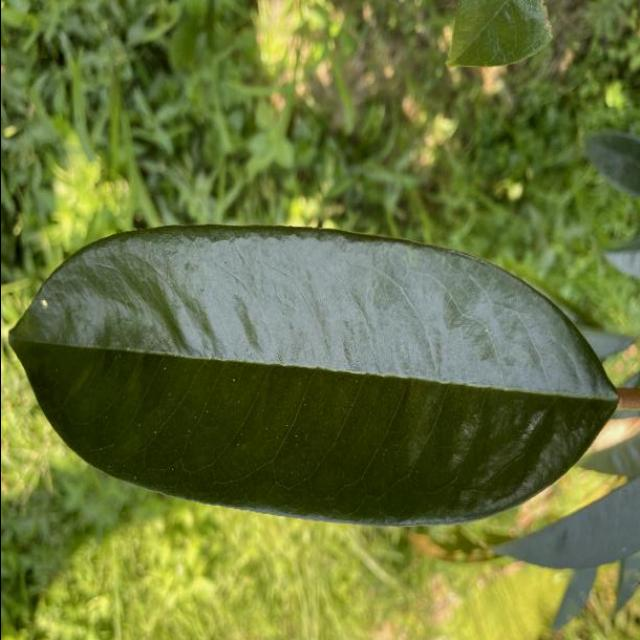No Disease: (0, 212, 632, 540)
